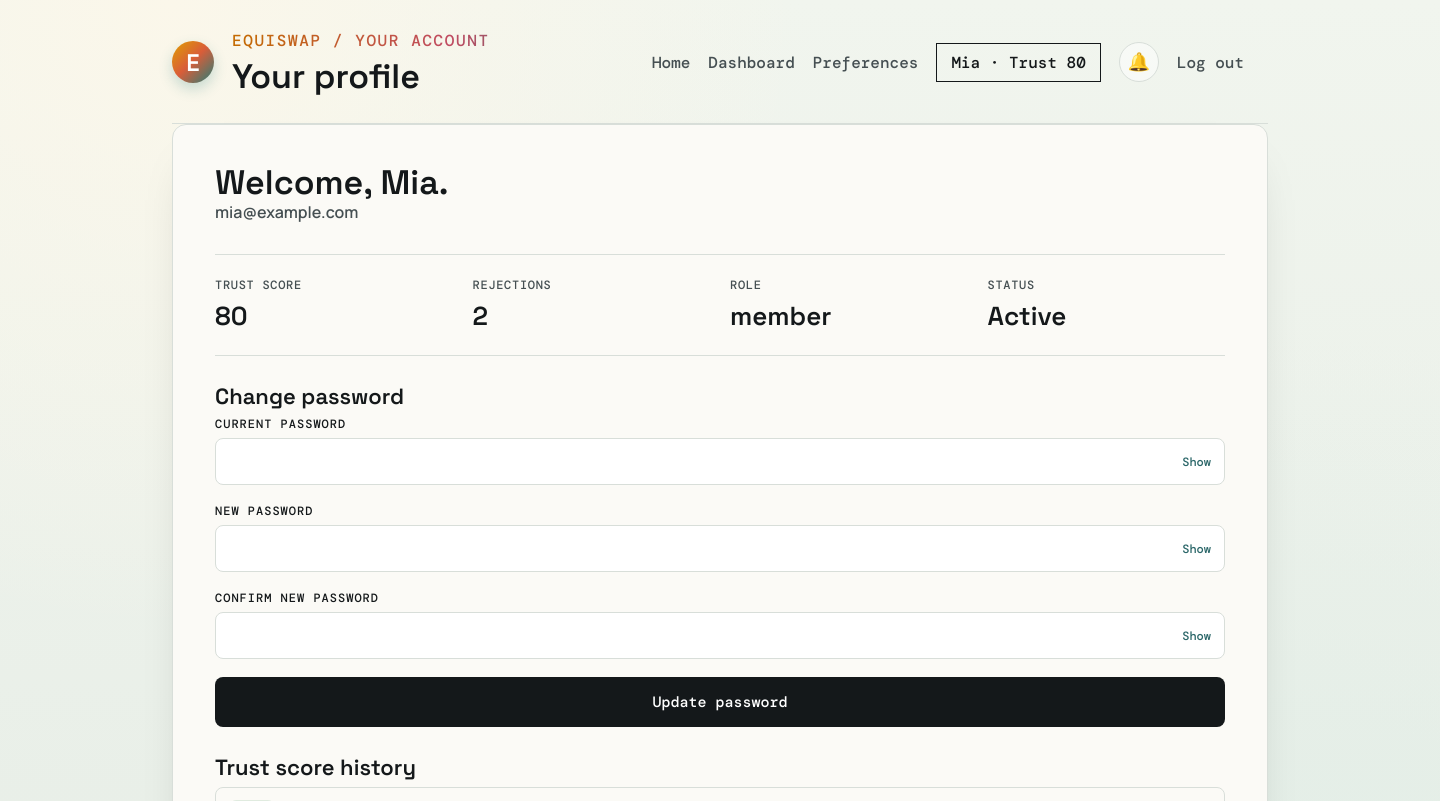
it: ProfilePage › submits a password change and shows a success message
Type "old-pass" into the password field labelled "Current password" at (720, 462), box [215,438,1225,485]
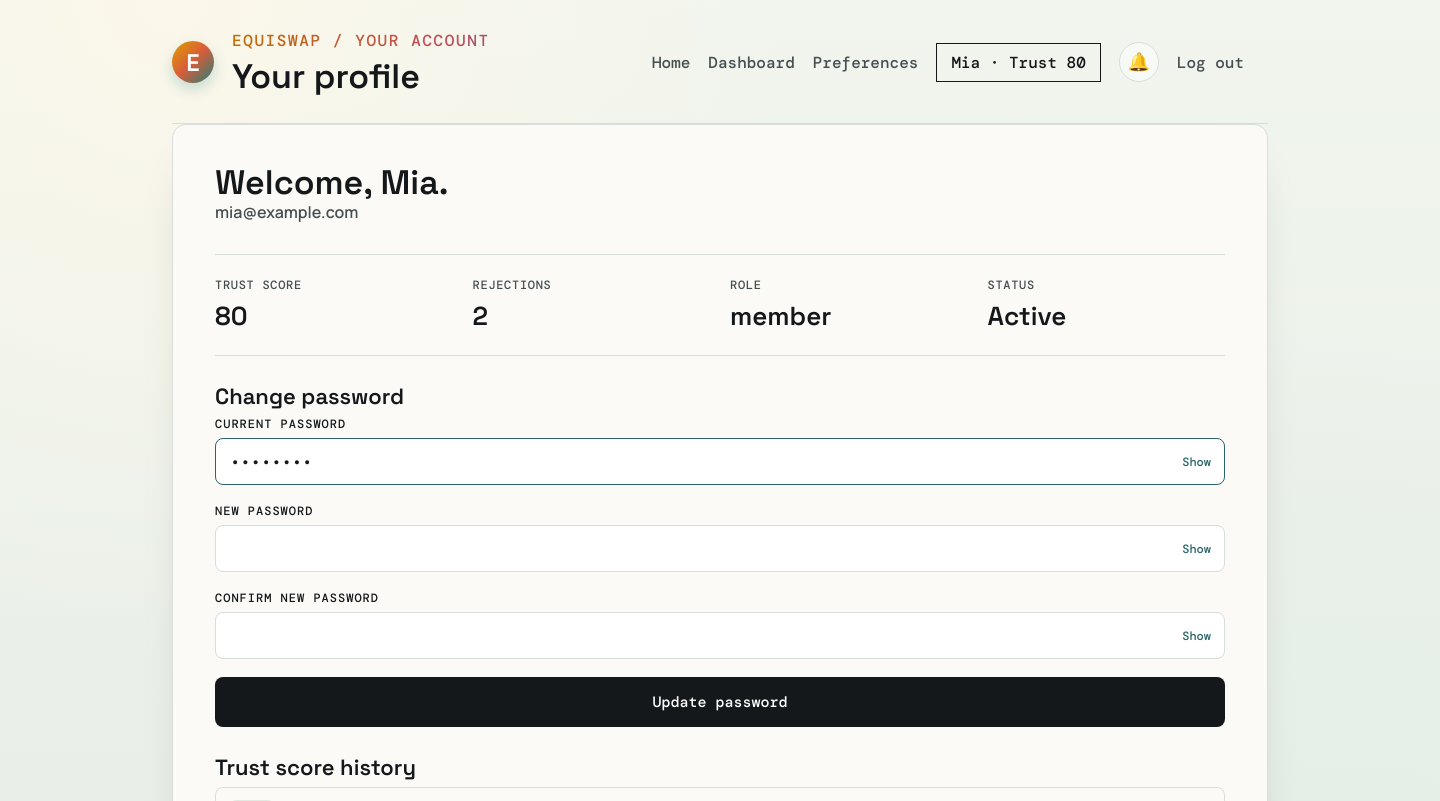
Type "new-password" into the password field labelled "New password" at (720, 549), box [215,525,1225,572]
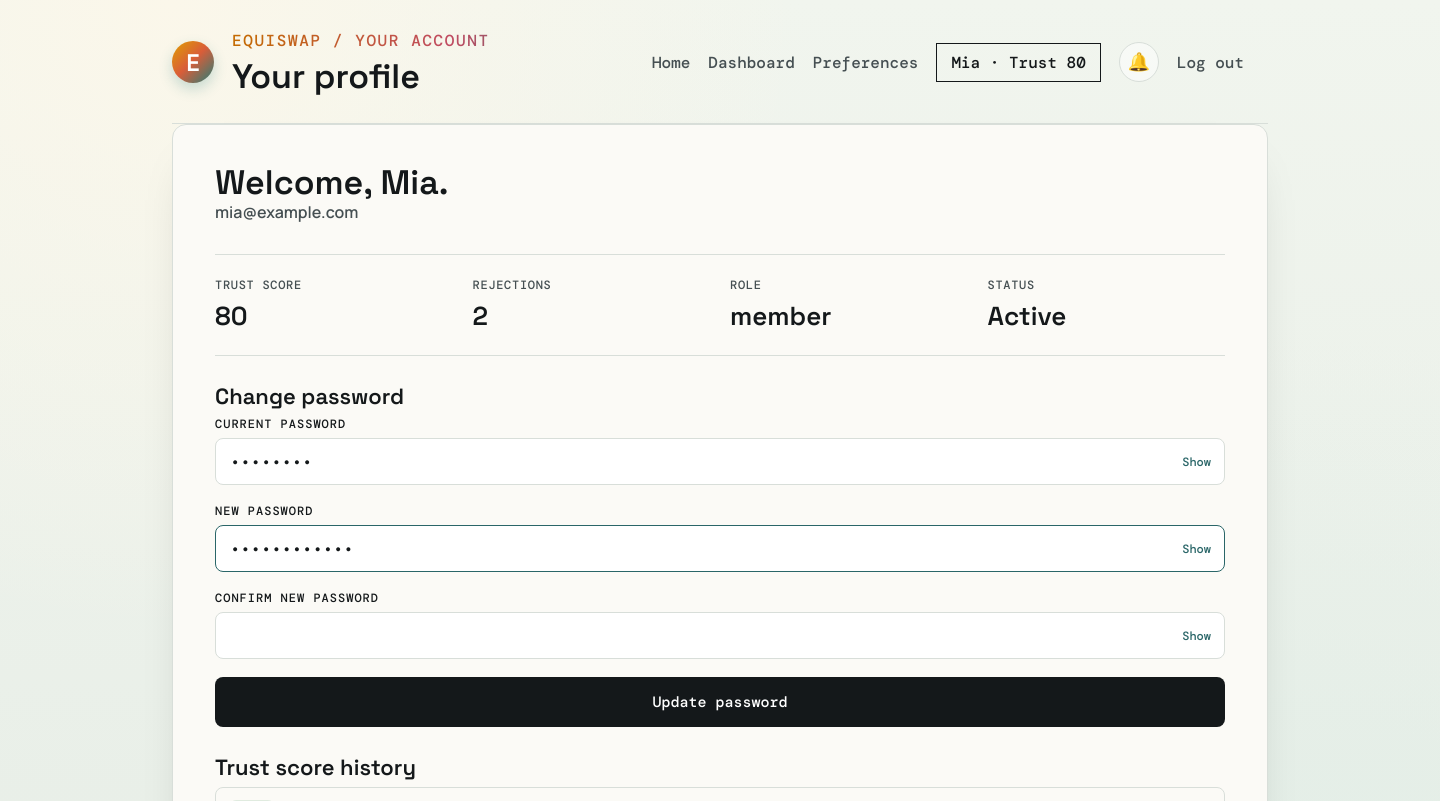
Type "new-password" into the password field labelled "Confirm new password" at (720, 636), box [215,612,1225,659]
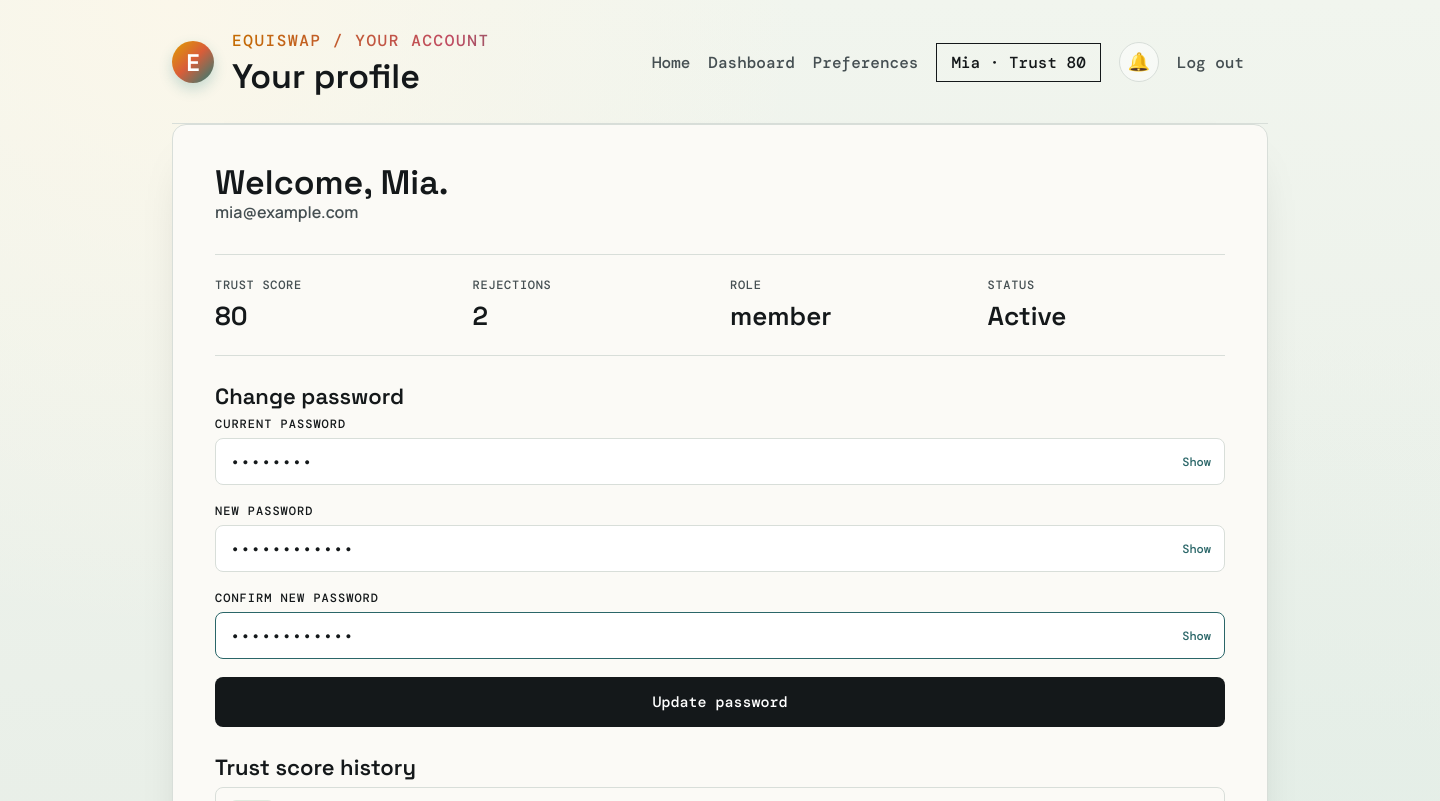
Click the button "Update password" at (720, 702), box [215,677,1225,727]
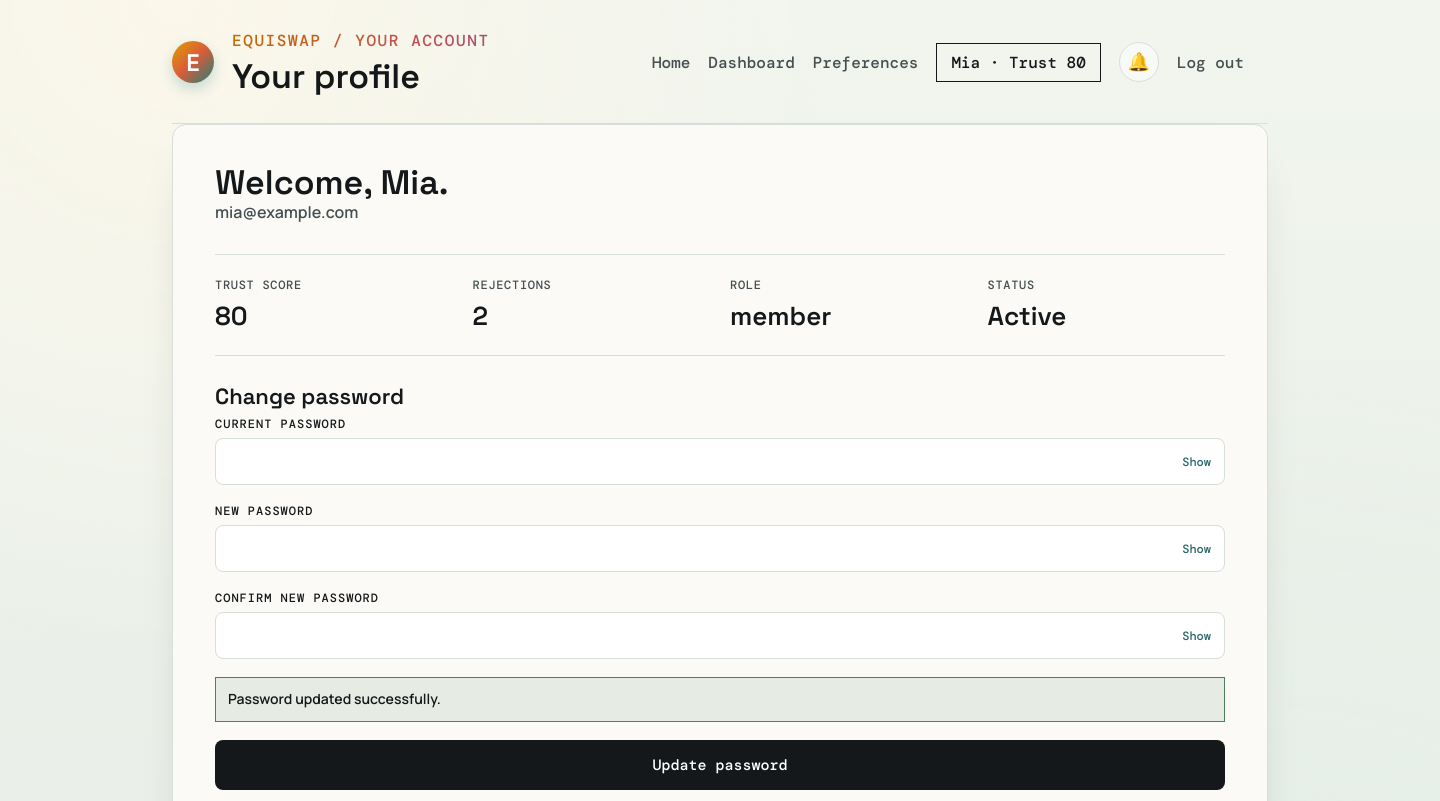
Result: the text "Password updated successfully." is shown at [215,677,1225,722]
